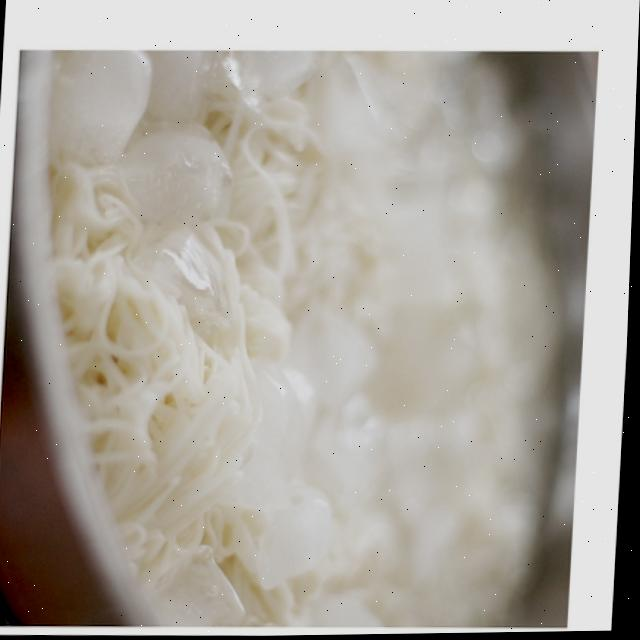面条主食: (0, 32, 612, 640)
